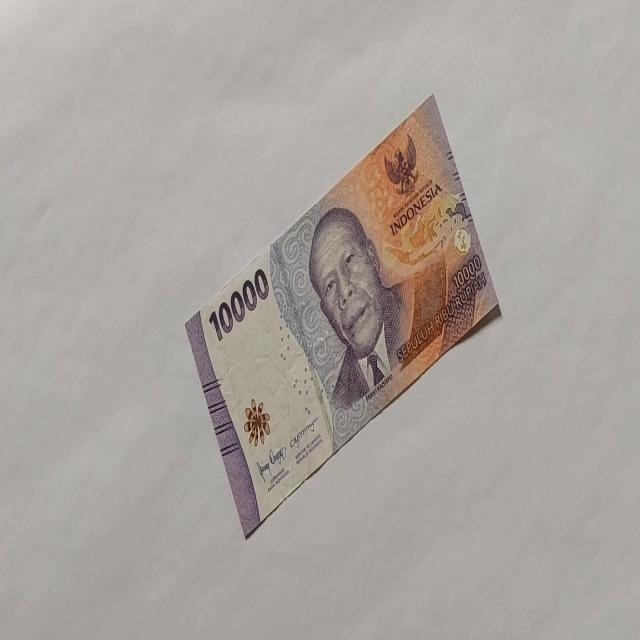sepuluh ribu rupiah: (183, 91, 502, 538), (207, 266, 270, 344)
